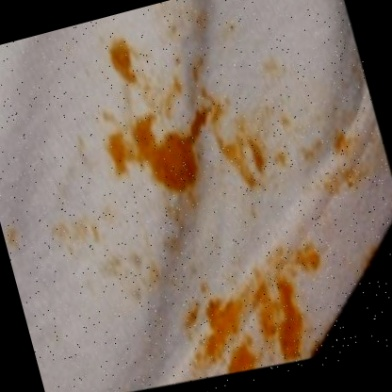kimchi: (46, 0, 378, 263), (183, 234, 330, 323), (198, 297, 314, 385), (91, 237, 215, 318), (0, 196, 95, 272), (166, 316, 210, 380)
